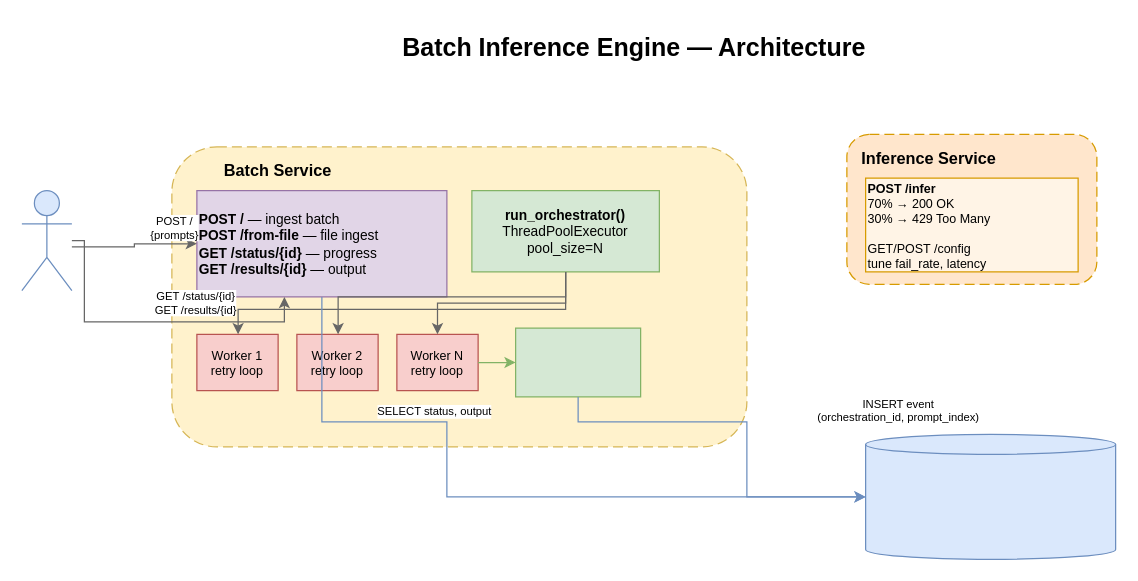
This 1138x581 diagram has some shape labels left out. The shapes that lost their labels are listed below. From the top down, each one's centre as x and y in pixels, then its label:
(x=46, y=240): Client
(x=577, y=362): DurableStore checkpoints per prompt_index
(x=990, y=496): orchestrator.db orchestrations orchestration_events (UNIQUE on prompt_index)
